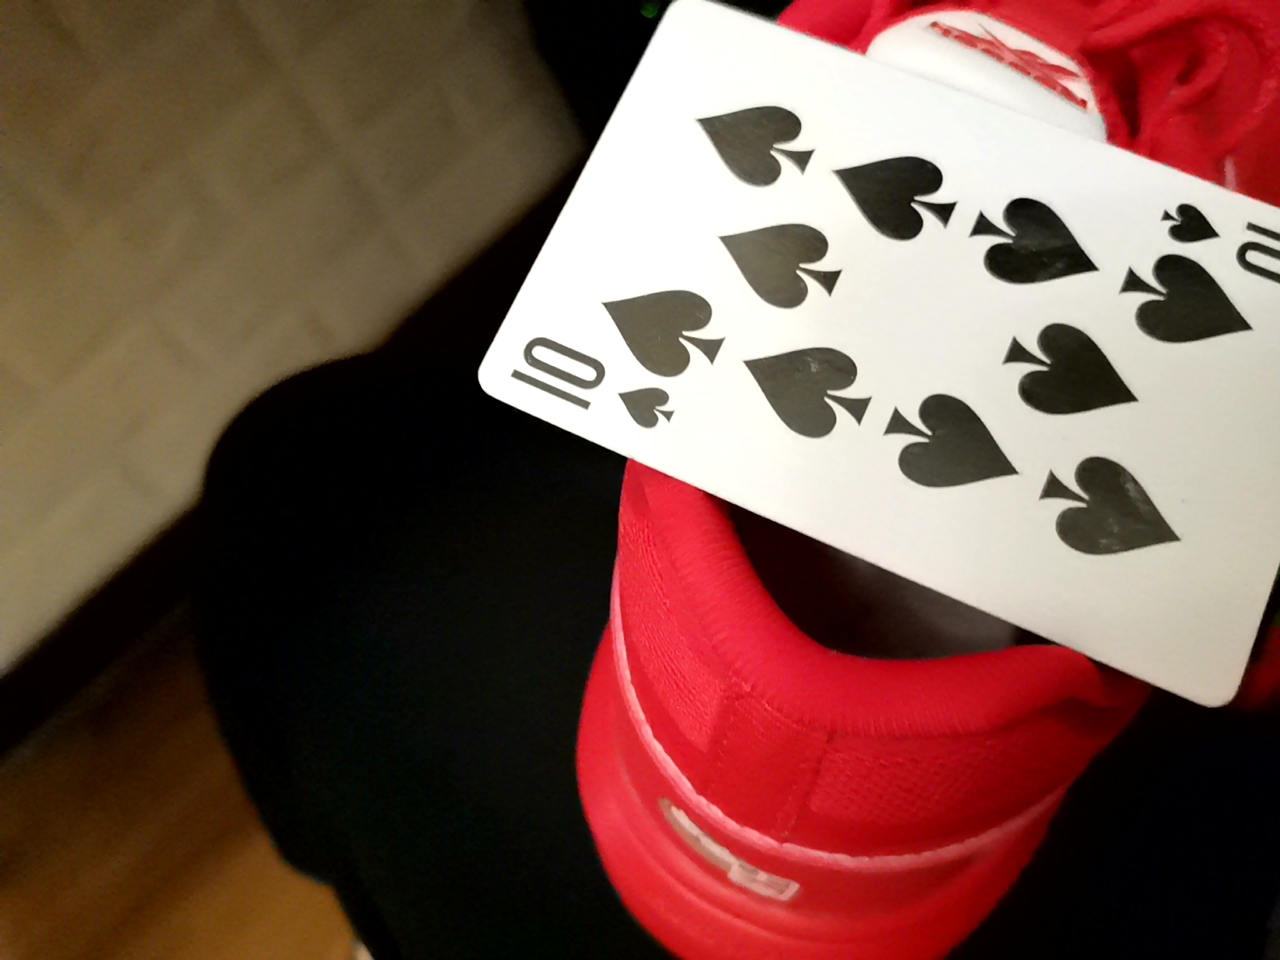ht 10: (447, 8, 1277, 694)
